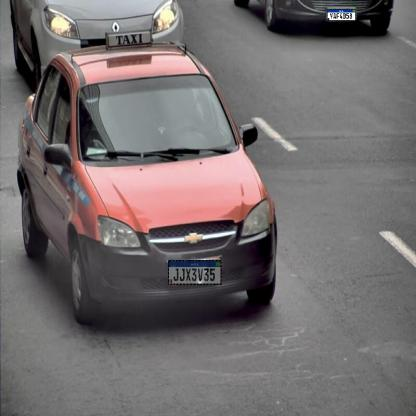PlacaM: (168, 260, 221, 285), (327, 9, 356, 21)
